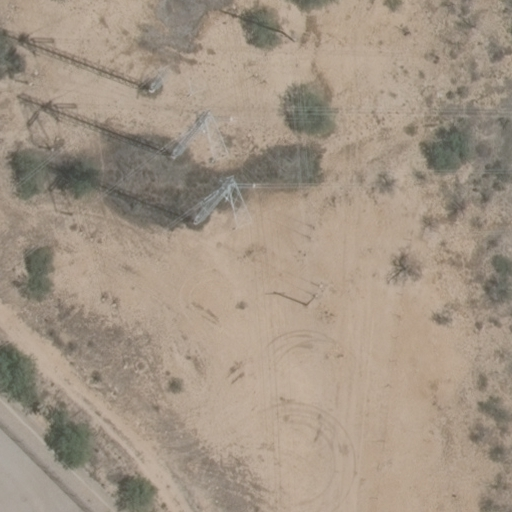TT: (188, 173, 235, 222), (169, 110, 208, 160), (148, 66, 175, 92)
